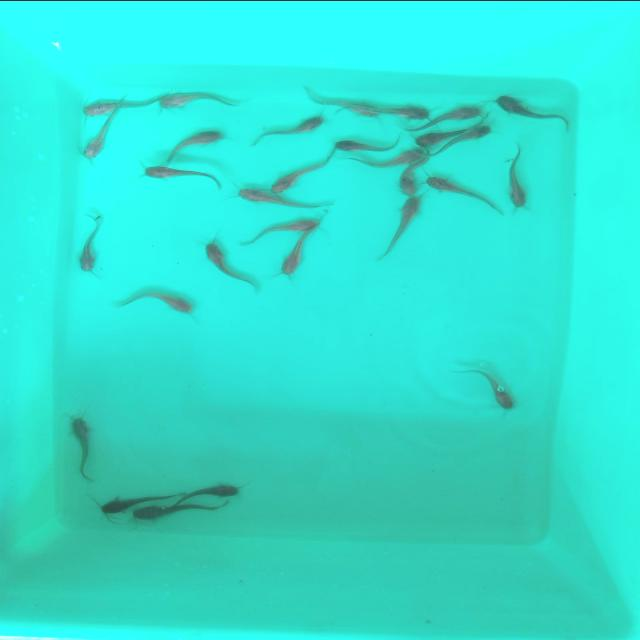lele: (460, 368, 518, 412), (128, 502, 225, 527), (203, 244, 255, 290), (271, 154, 330, 192), (424, 175, 500, 203), (382, 197, 420, 251), (143, 162, 219, 188), (256, 113, 325, 141), (72, 212, 104, 272), (232, 187, 328, 207), (158, 88, 238, 112), (119, 287, 192, 313), (174, 477, 252, 501), (493, 94, 563, 120), (78, 121, 118, 166), (164, 128, 222, 159), (80, 95, 158, 118), (68, 416, 94, 482), (94, 488, 160, 513), (270, 238, 310, 279), (240, 220, 320, 240), (506, 146, 530, 208), (325, 94, 377, 120), (380, 98, 428, 125), (330, 134, 402, 152), (452, 120, 492, 152), (432, 100, 482, 122), (356, 149, 424, 165), (393, 164, 423, 198), (412, 130, 456, 146)
